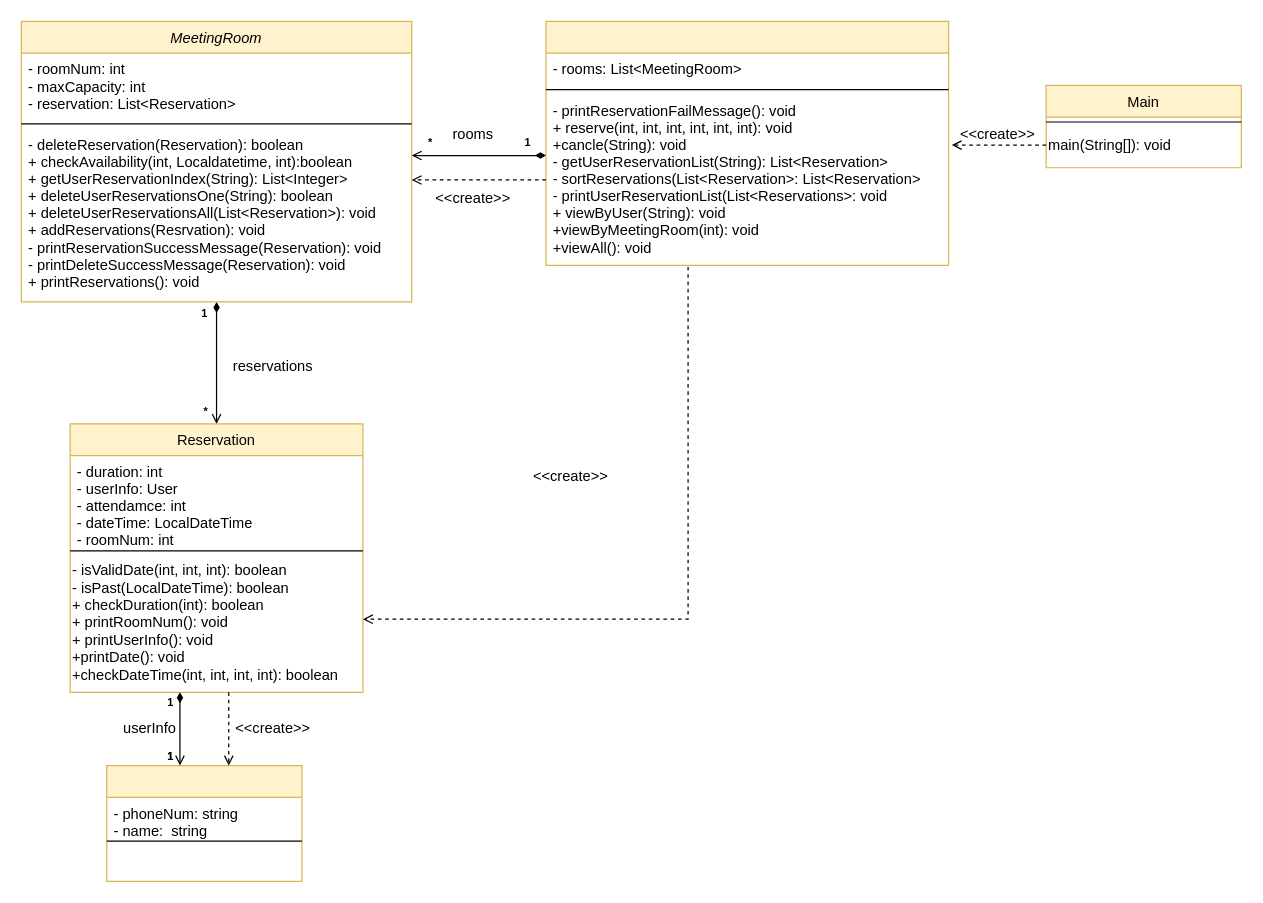
The diagram is 1263 pixels wide and 903 high, and some of its shapes have lost their labels. The box of each missing label's shape, as (x1, y1, x2, y2) in pixels:
ReservationSystem: (545, 20, 949, 265)
User: (106, 764, 302, 881)
